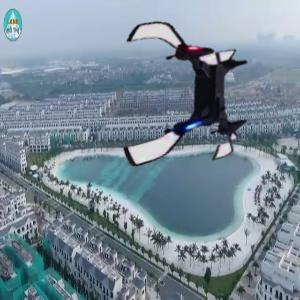drone: (103, 12, 262, 171)
